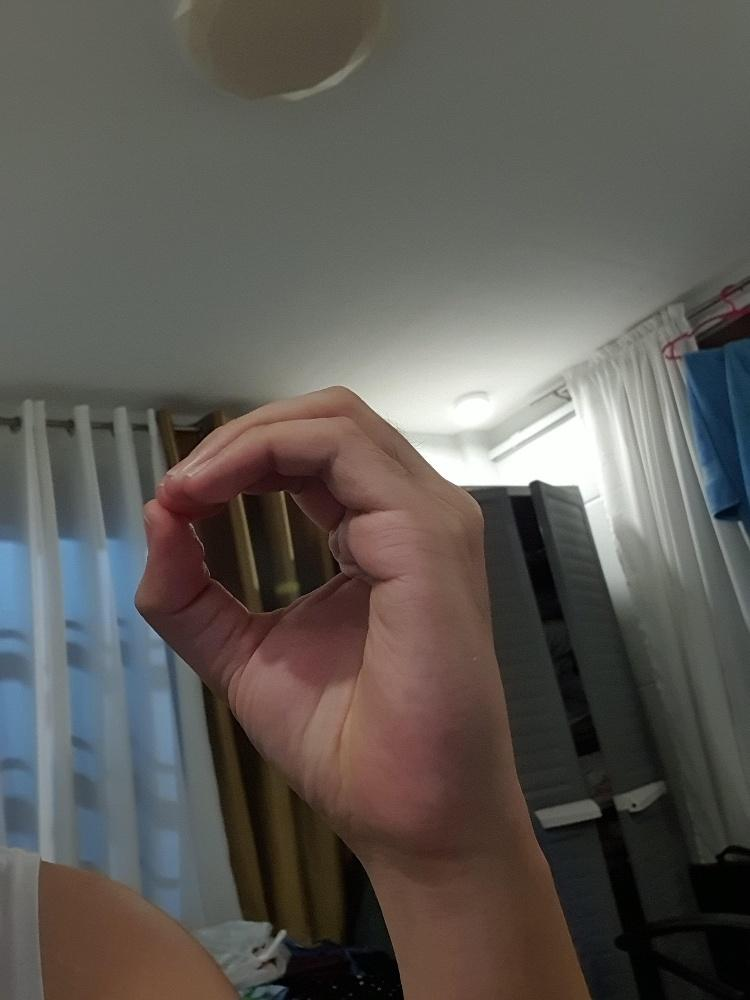o: (130, 379, 529, 870)
